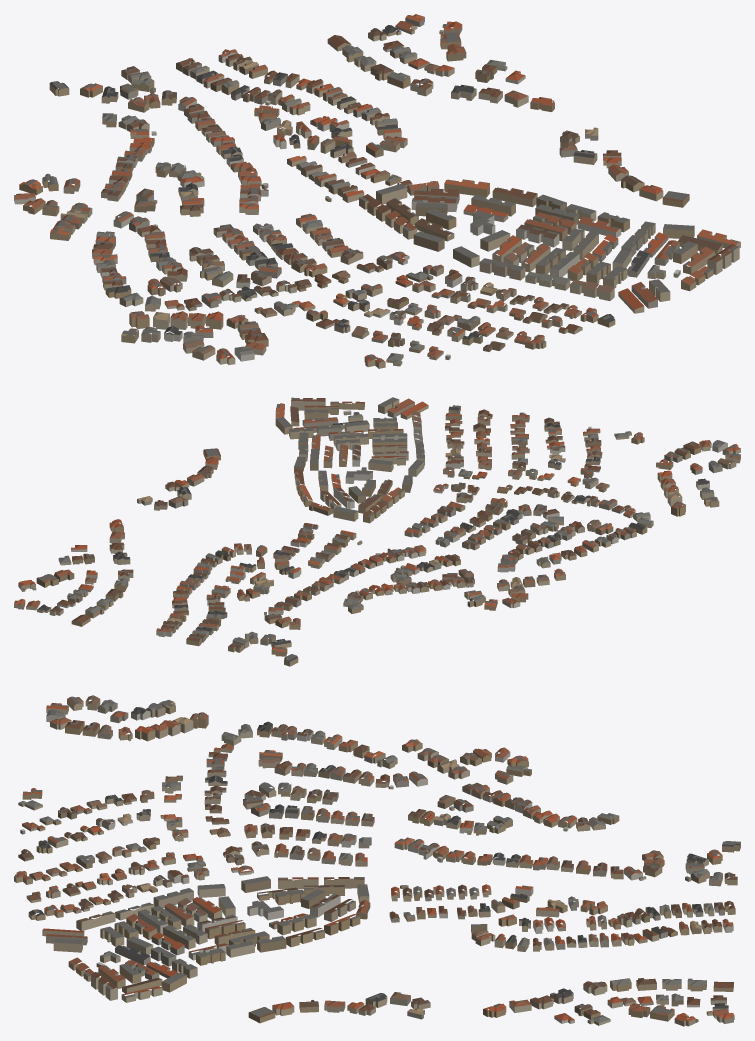
3 renders of one model, top to bottom at view 1: azimuth 30°, elevation 25°; view 2: azimuth 150°, elevation 25°; view 3: azimuth 270°, elevation 25°, orthographic. The views are drawn at different scales.
Visible parts, largest first — view 1: buildings_r1_c6_lod1; view 2: buildings_r1_c6_lod1; view 3: buildings_r1_c6_lod1.
Boxes of the visible parts, x1,y1,x2,y2 form: buildings_r1_c6_lod1: (14,14,740,368); buildings_r1_c6_lod1: (14,397,740,666); buildings_r1_c6_lod1: (14,695,740,1026).
Bounding box in the file's own units: 727 × 86.96 × 804.
